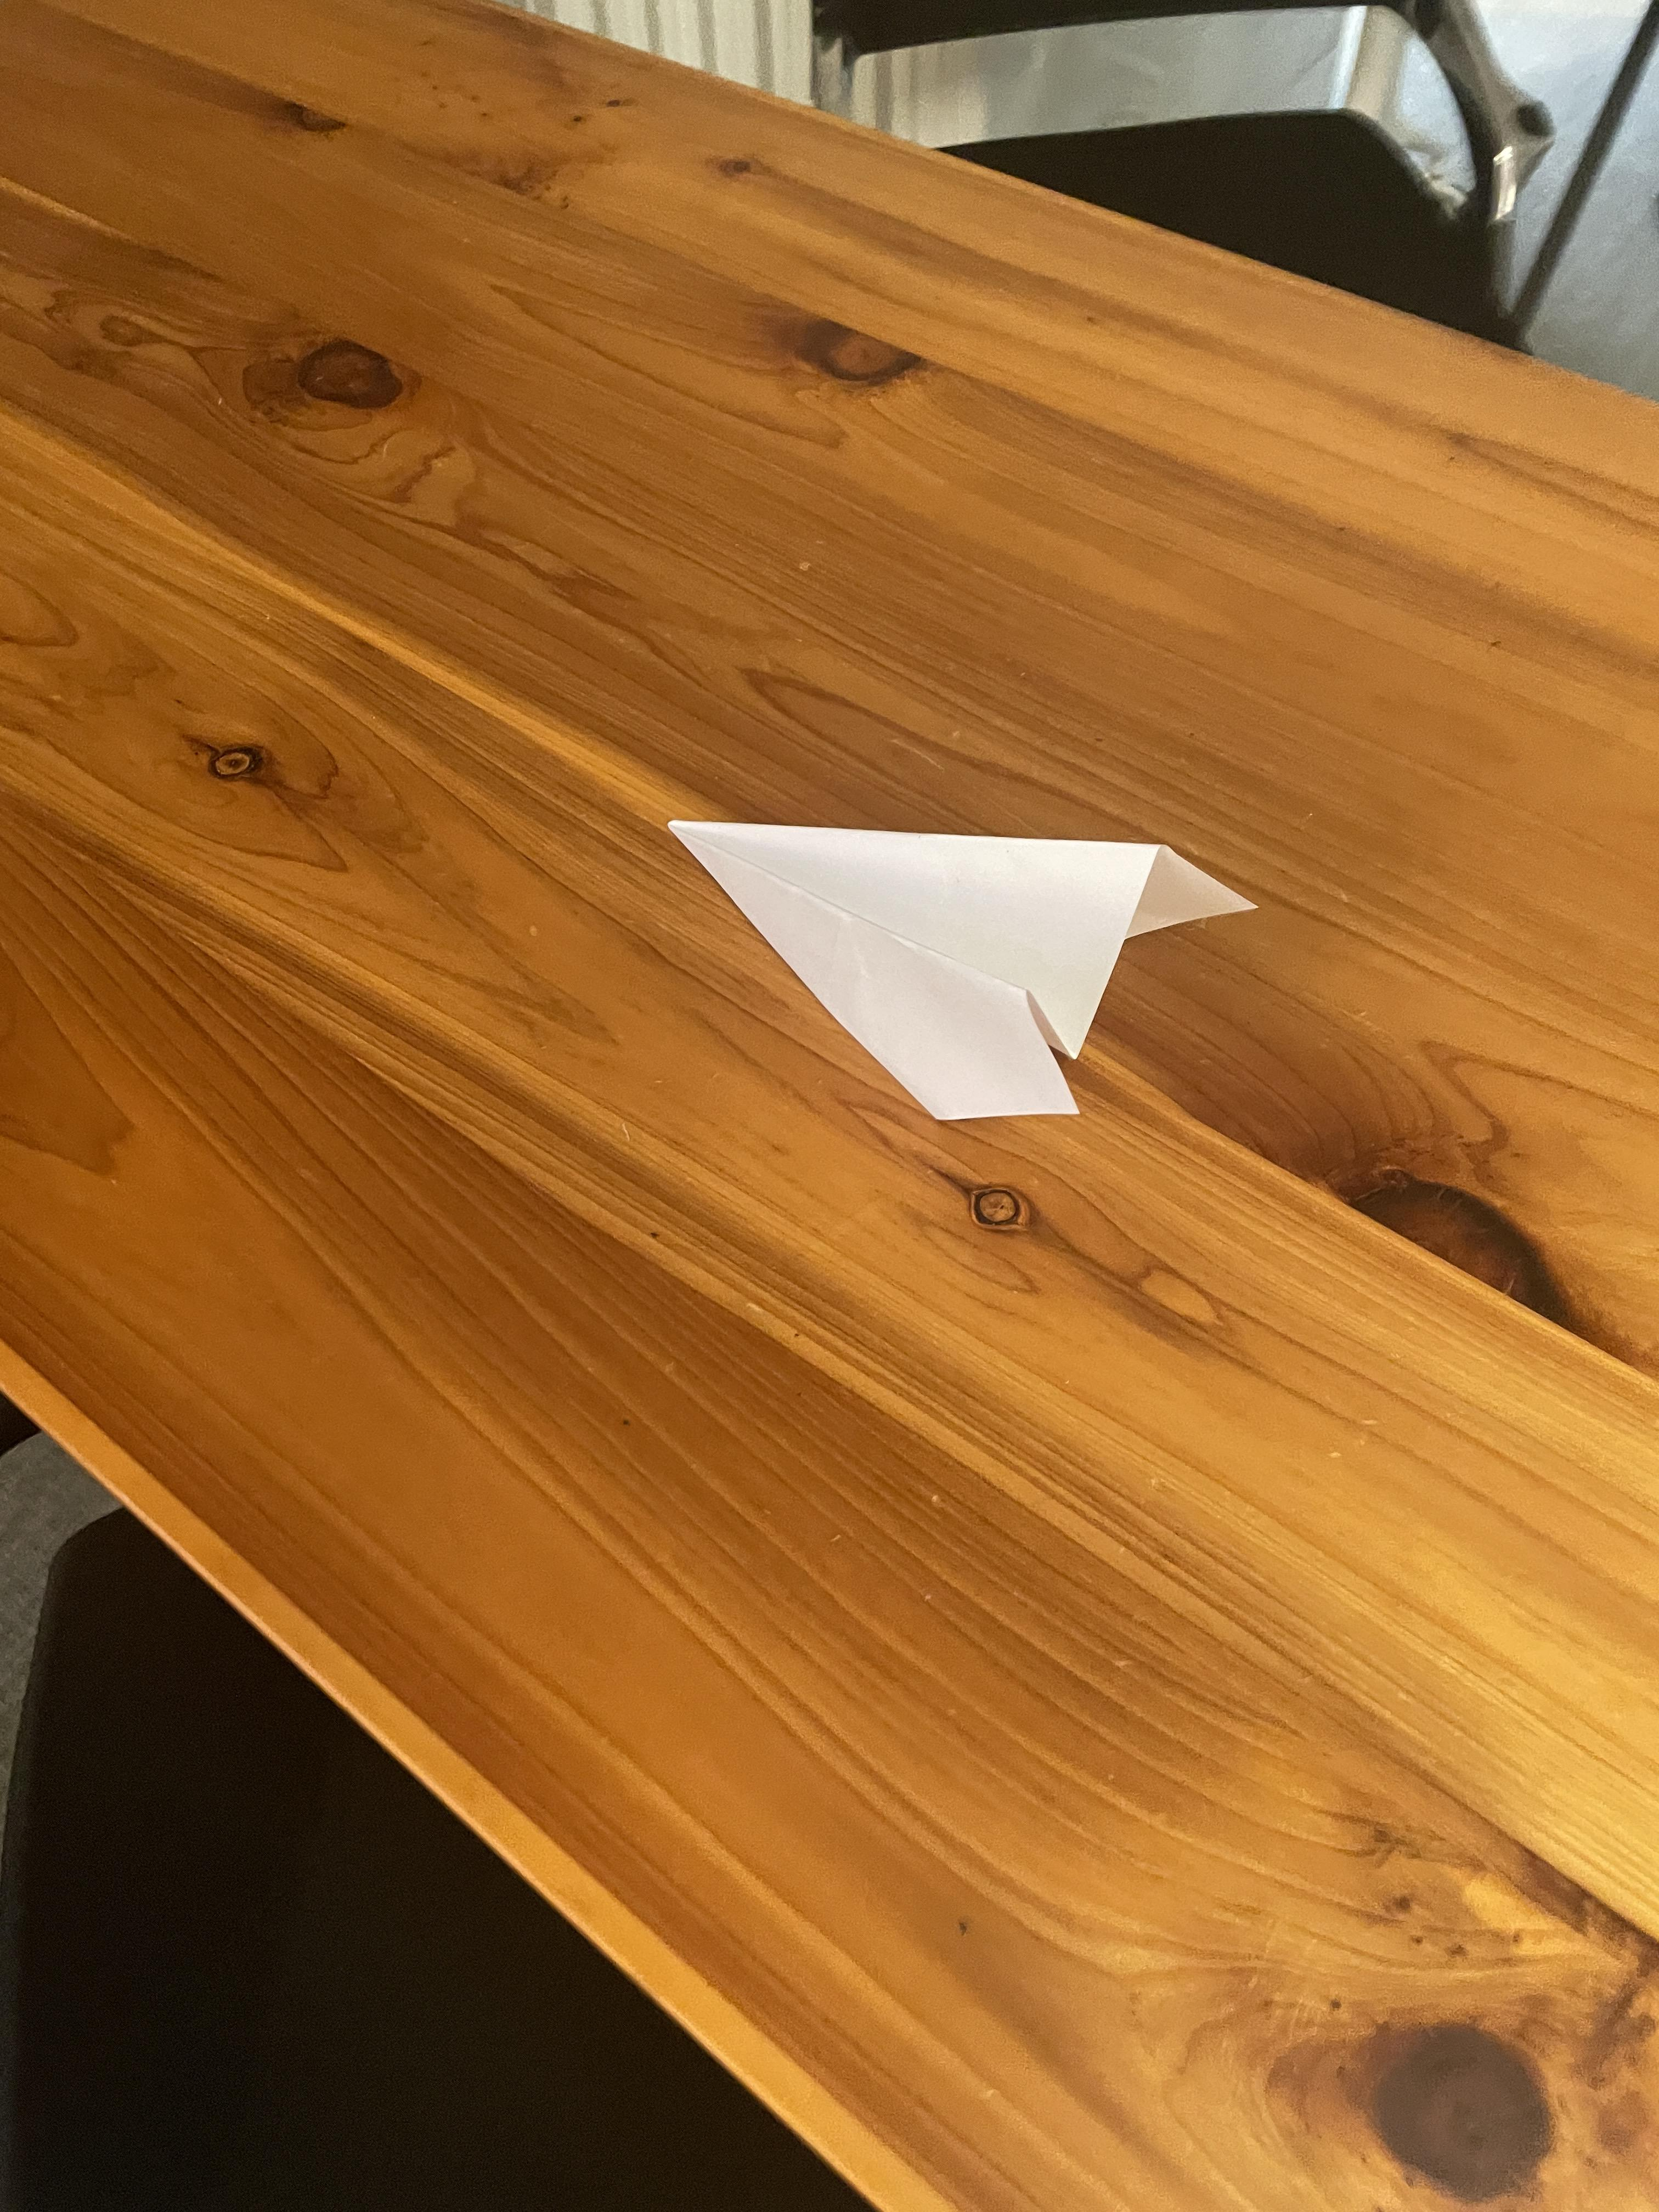shape_3: (565, 660, 1420, 1385)
